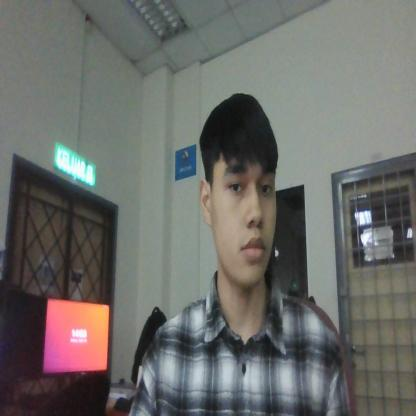Open-Eyes: (217, 154, 279, 207)
